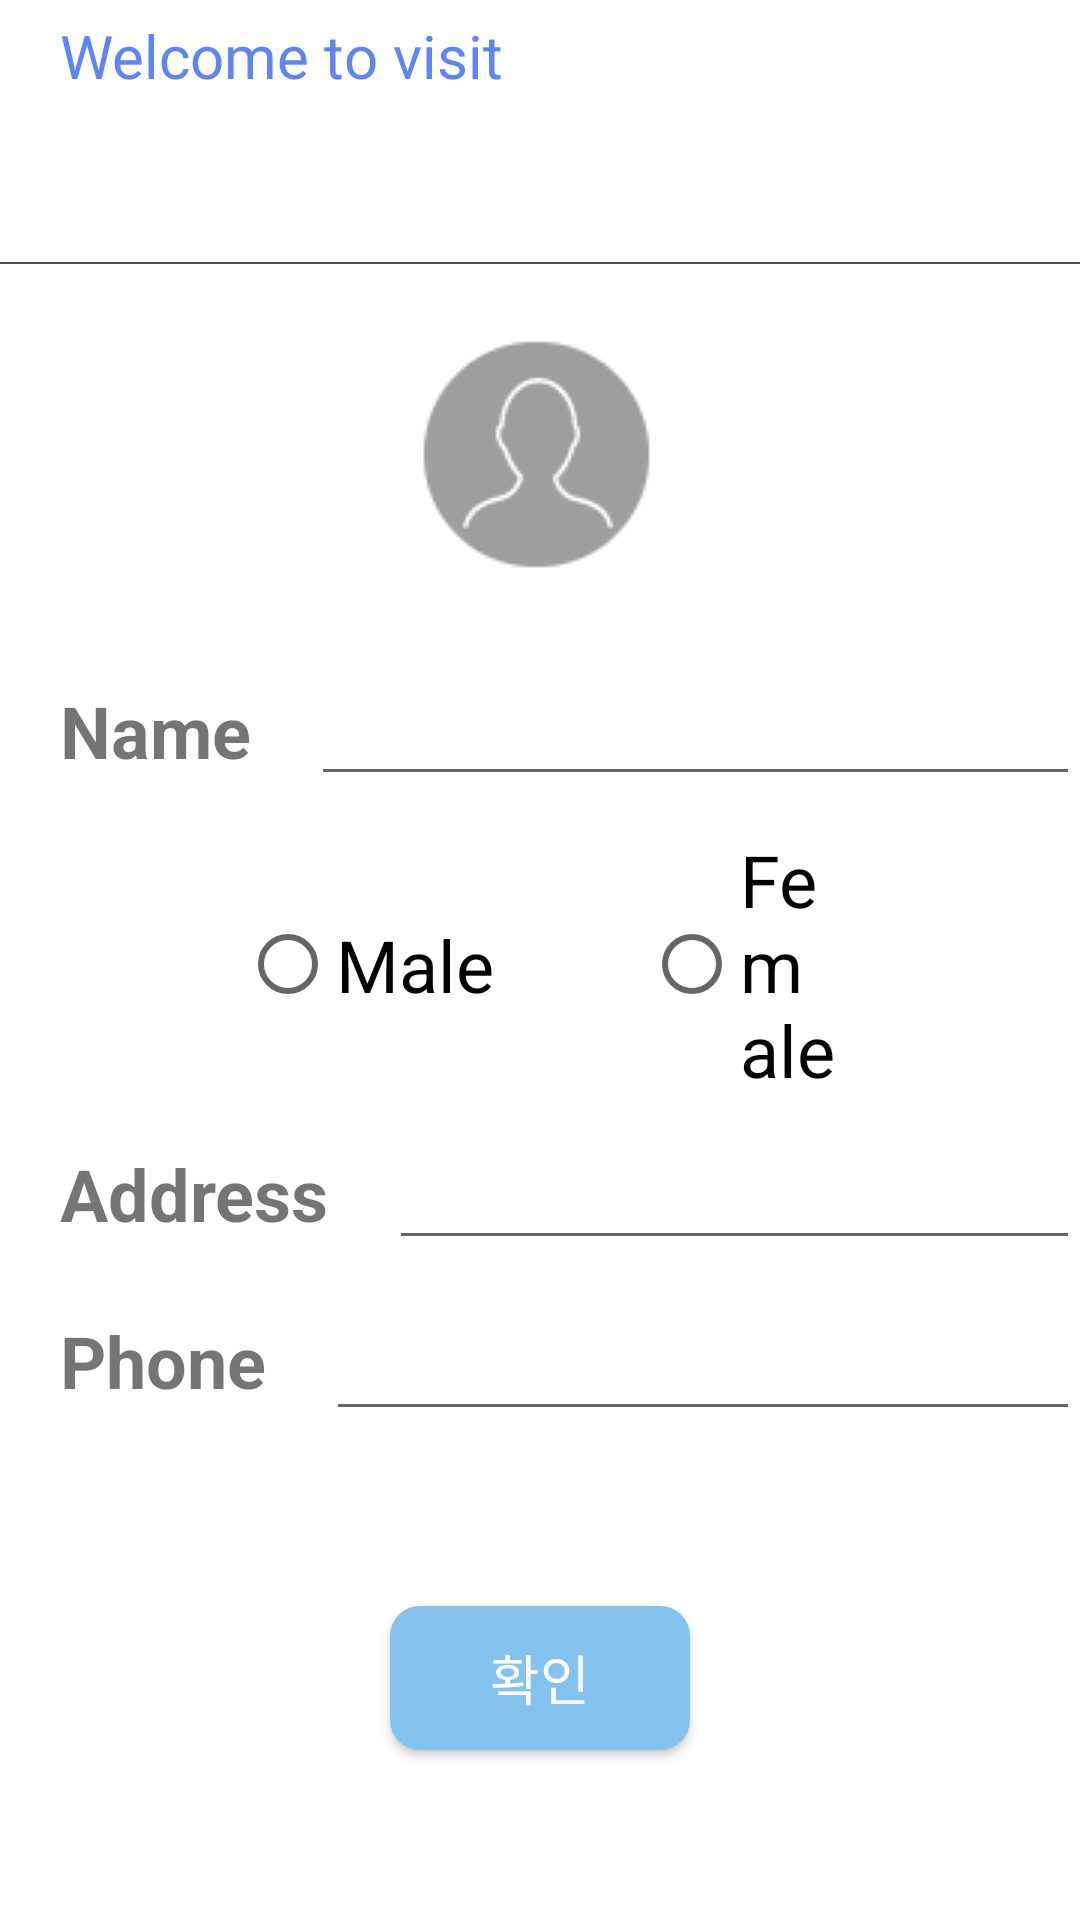

Locate icon controls on the screen. Image size 1080×1920, boxes as bbox=(x1, y1, x2, y2).
photo: bbox=(423, 341, 650, 568)
